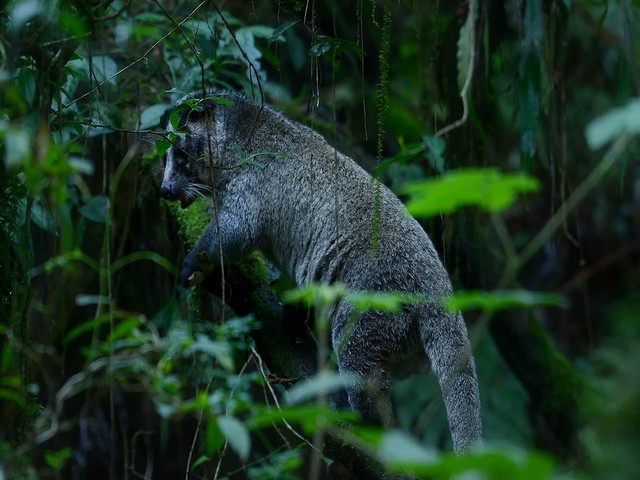civet: (156, 82, 486, 462)
